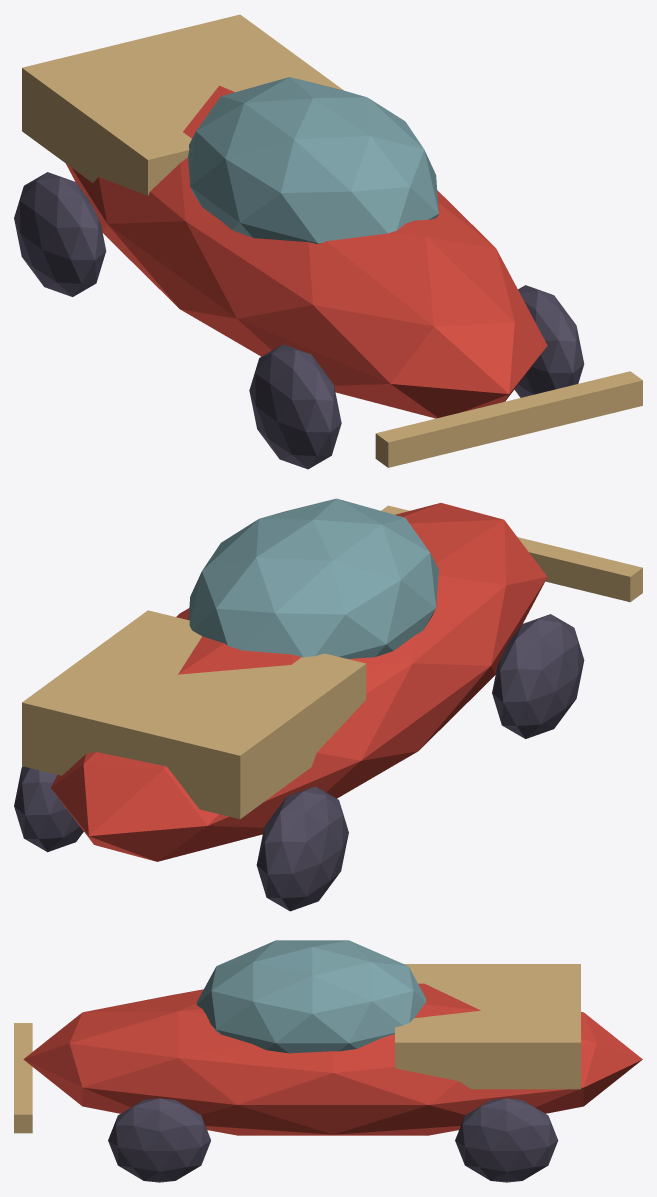
3 views of the same model, one above another, from view 1: azimuth 30°, elevation 25°; view 2: azimuth 150°, elevation 25°; view 3: azimuth 270°, elevation 25° (orthographic). The views are drawn at different scales.
Parts seen in each view (by area): view 1: RC-020 Delivery utility car batched; view 2: RC-020 Delivery utility car batched; view 3: RC-020 Delivery utility car batched.
Part boxes in pixels (bbox=[...]): RC-020 Delivery utility car batched: bbox=[14, 14, 642, 469]; RC-020 Delivery utility car batched: bbox=[14, 498, 642, 911]; RC-020 Delivery utility car batched: bbox=[14, 940, 642, 1182].
Bounding box in the file's own units: 2.48 × 2.05 × 6.09.
